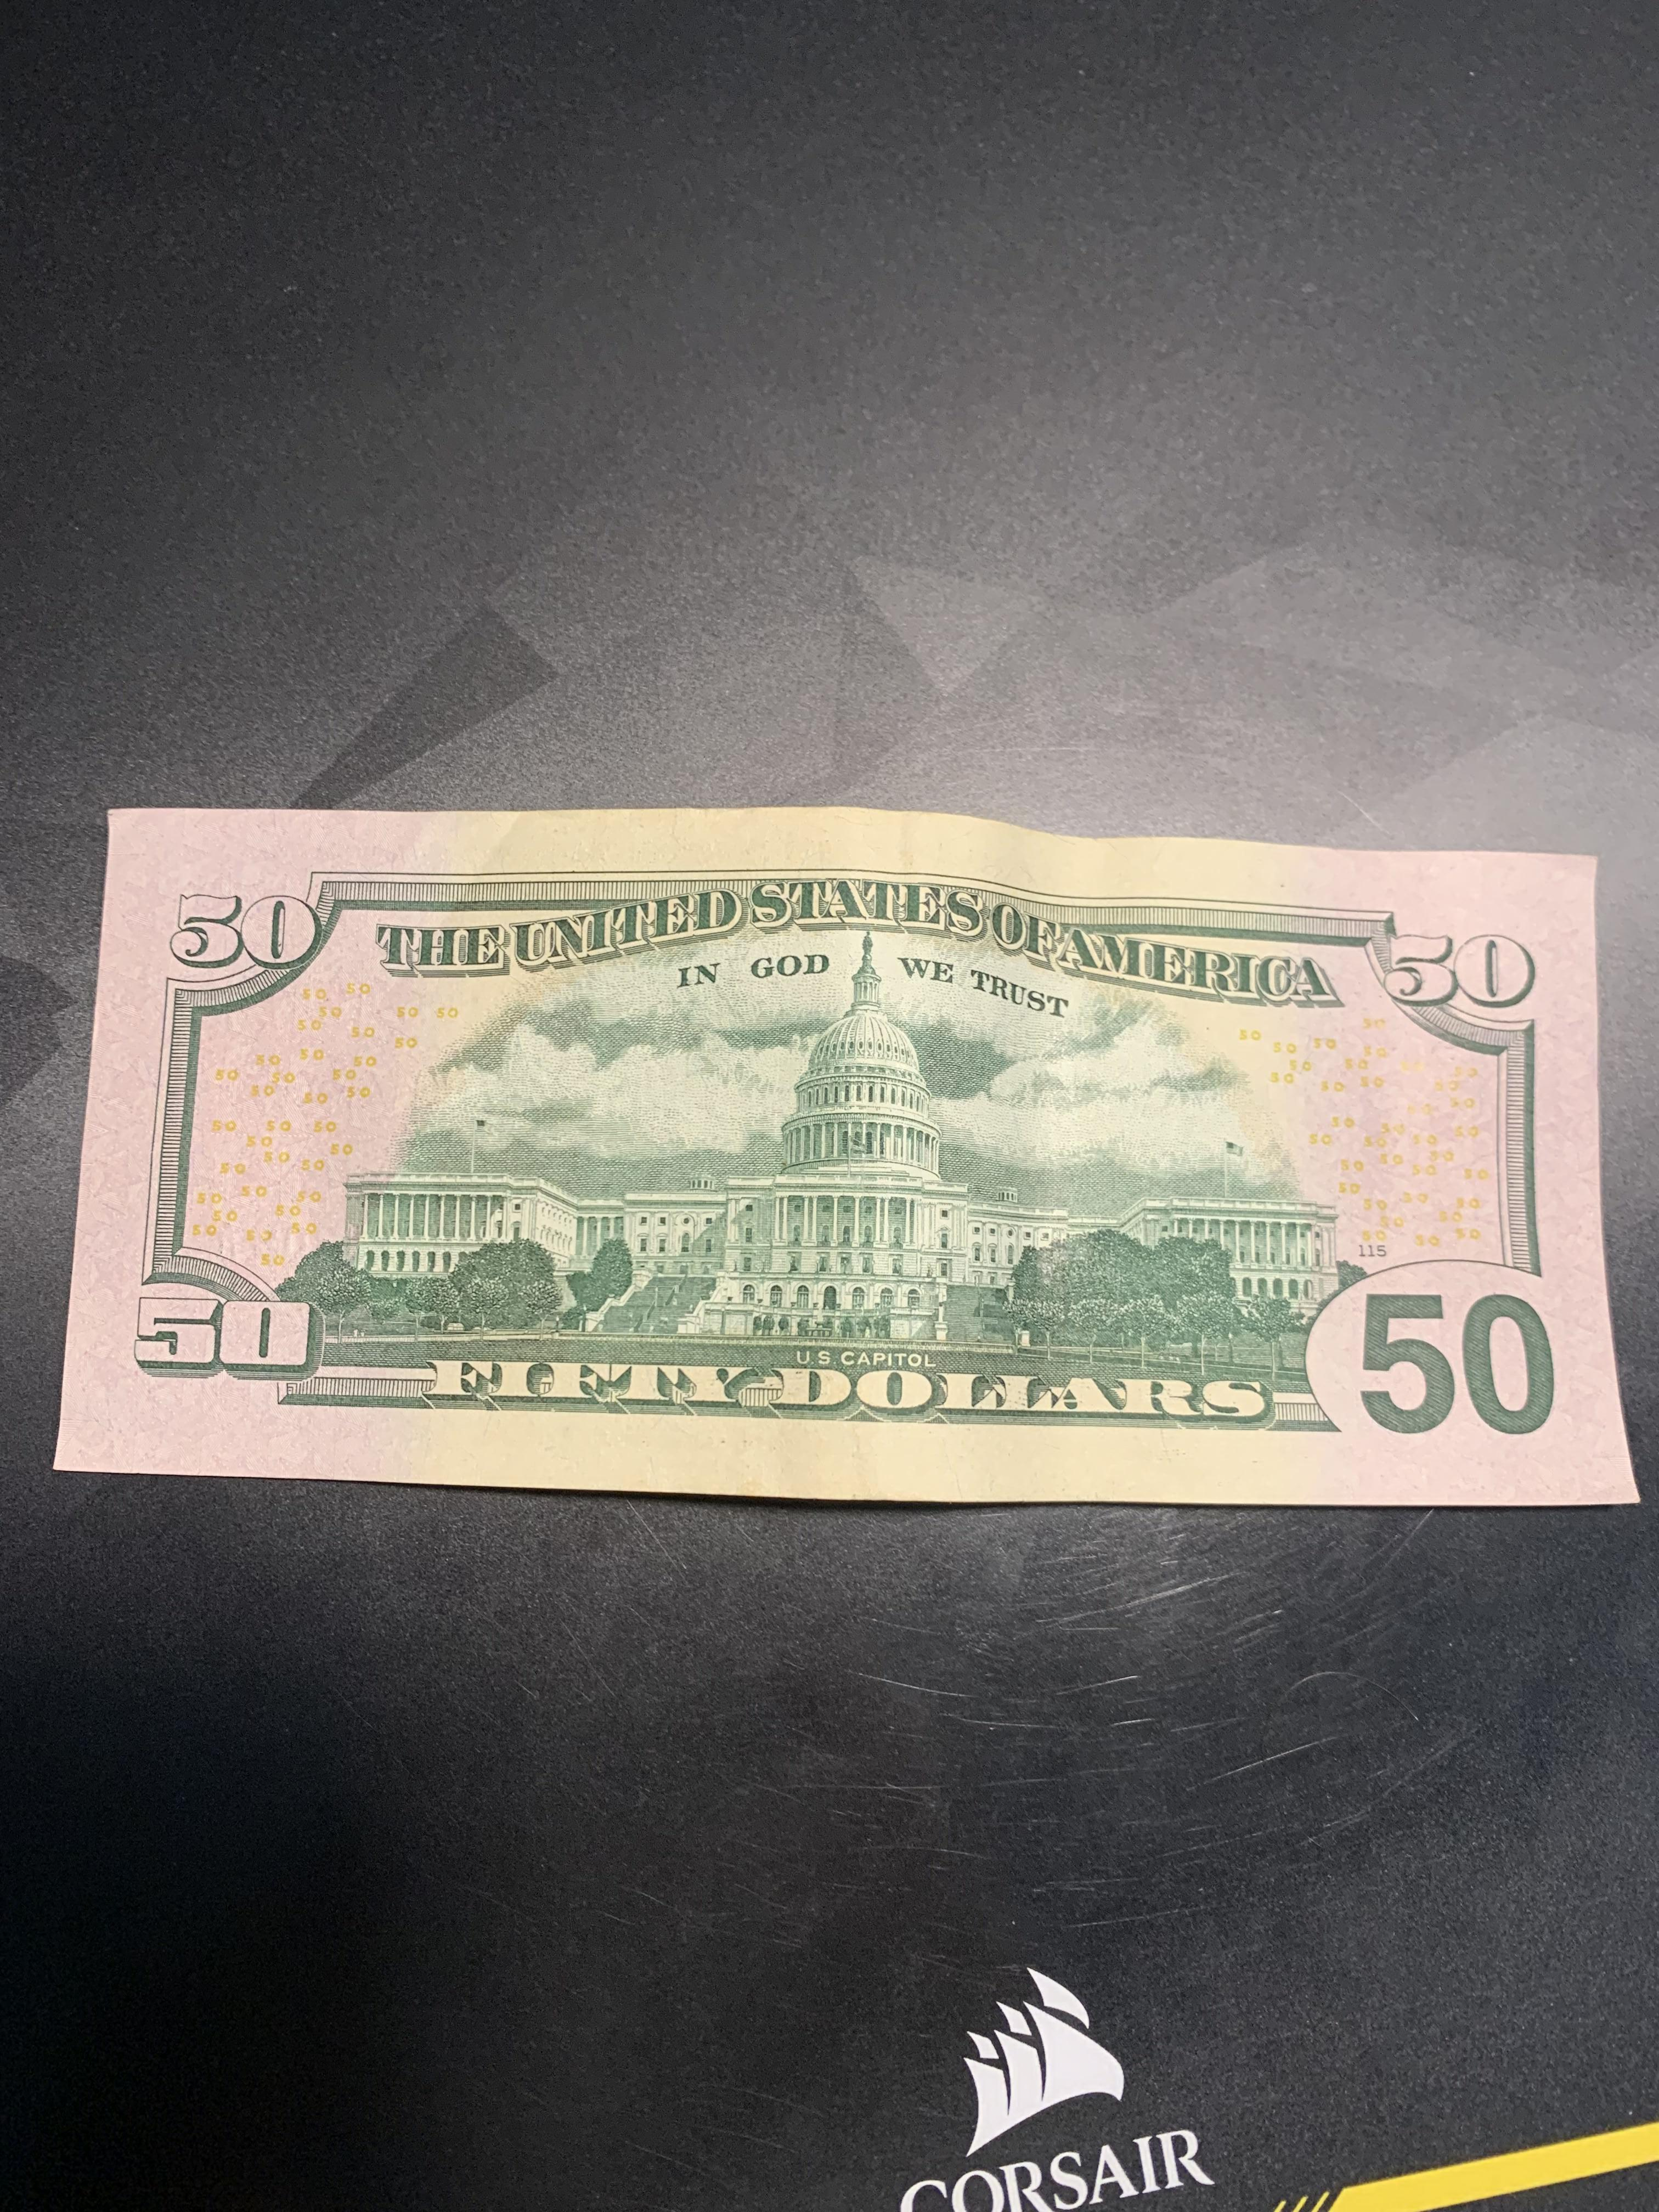FiftyBill: (28, 768, 1656, 1550)
